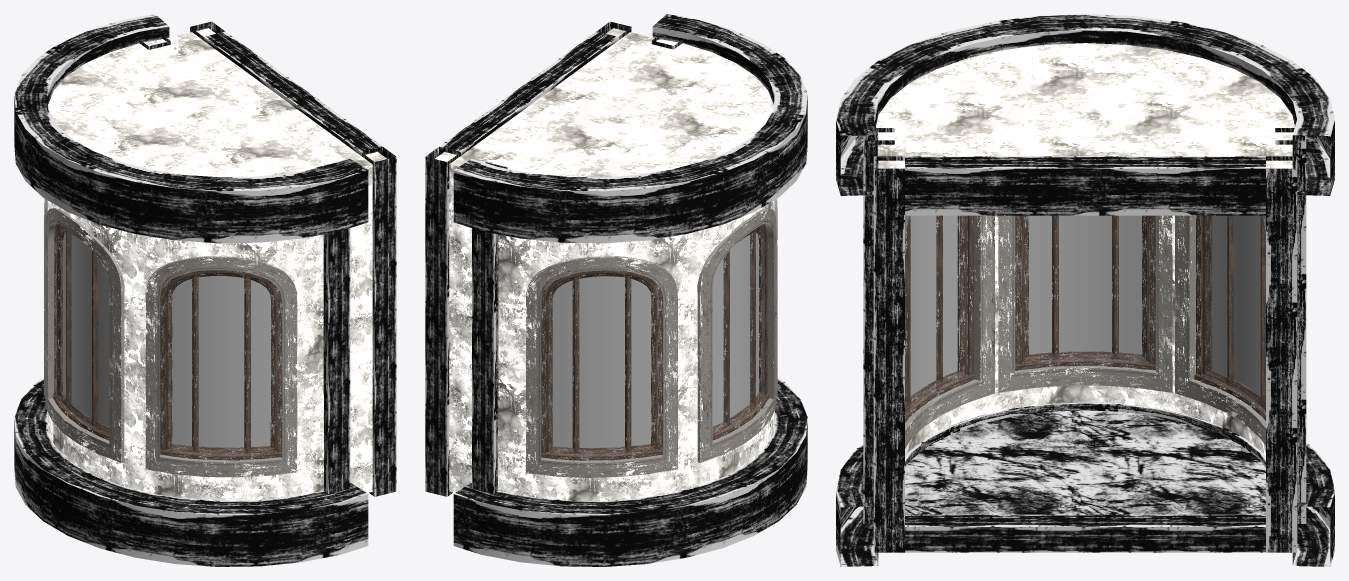
The model's file is SM_tower_round_02.fbx.
The picture shows the model from 3 angles, left to right: view 1: azimuth 30°, elevation 25°; view 2: azimuth 150°, elevation 25°; view 3: azimuth 270°, elevation 25°; orthographic projection. The views are drawn at different scales.
Parts seen in each view (by area): view 1: SM_tower_round_02_LOD0; view 2: SM_tower_round_02_LOD0; view 3: SM_tower_round_02_LOD0.
Boxes of the visible parts, x1,y1,x2,y2 form: SM_tower_round_02_LOD0: (14, 14, 396, 566); SM_tower_round_02_LOD0: (425, 14, 807, 566); SM_tower_round_02_LOD0: (836, 14, 1334, 566).
Bounding box in the file's own units: 367 × 530 × 505.
Materials: 8 (7 with a texture image).
